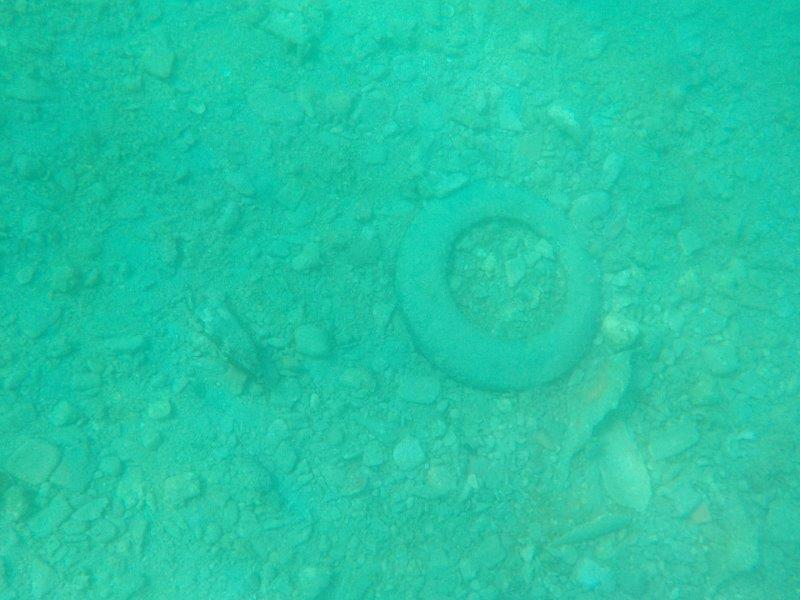bottle: (182, 288, 273, 387)
tire: (391, 168, 614, 397)
